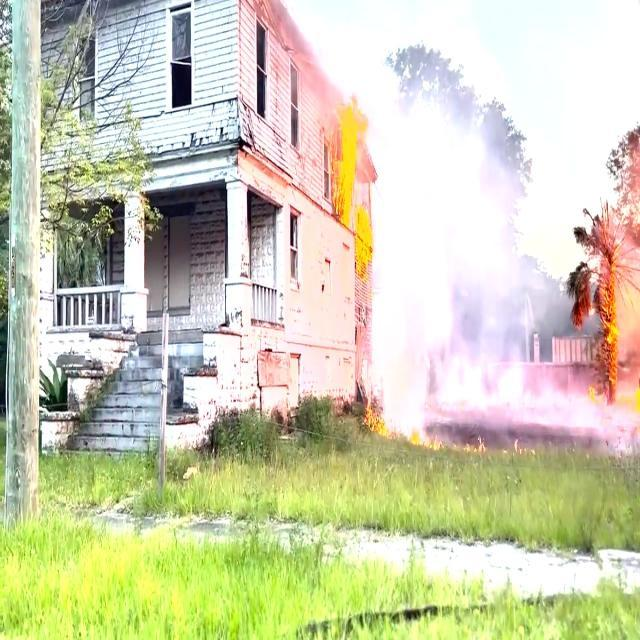Fire: (604, 242, 638, 412), (328, 108, 358, 227), (356, 204, 372, 272)
Smoke: (385, 62, 544, 432)
